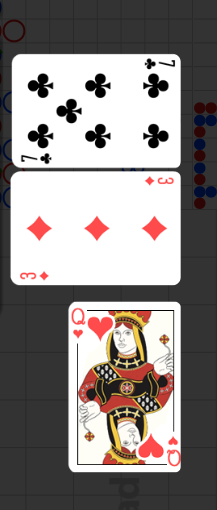3D: (19, 270, 51, 282)
7C: (19, 151, 54, 165)
9H: (165, 435, 181, 468)
